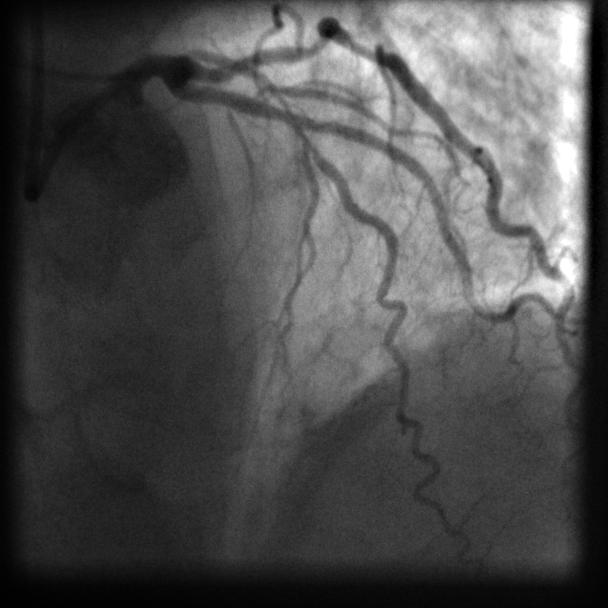Stenosis: (279, 88, 317, 151)
